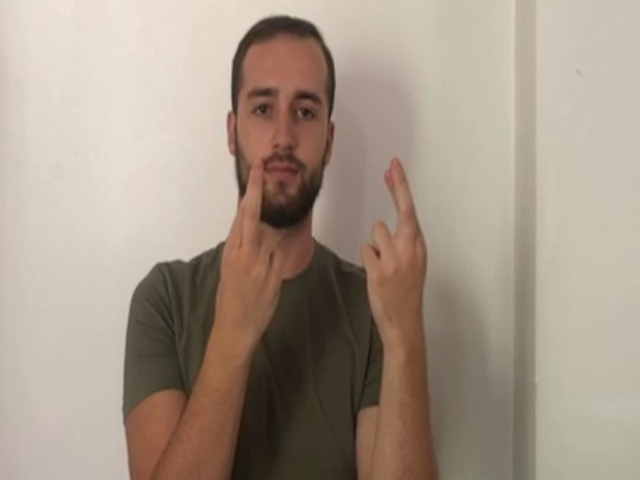Nadevanja: (214, 154, 439, 354)
